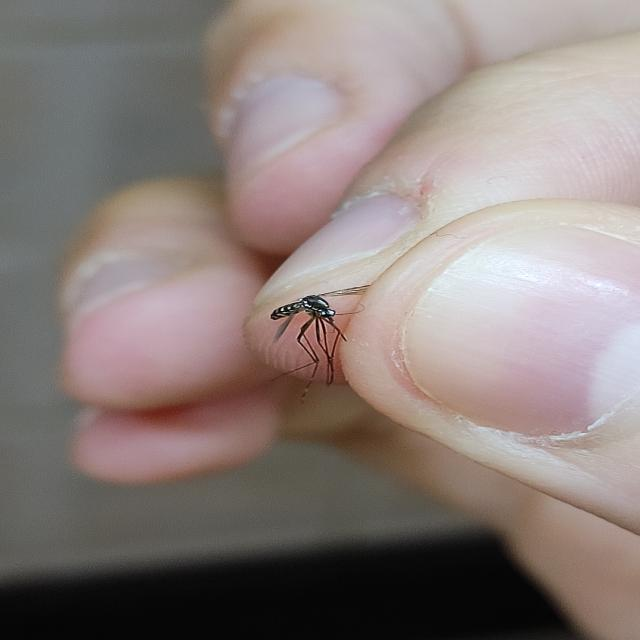albopictus: (262, 277, 376, 396)
